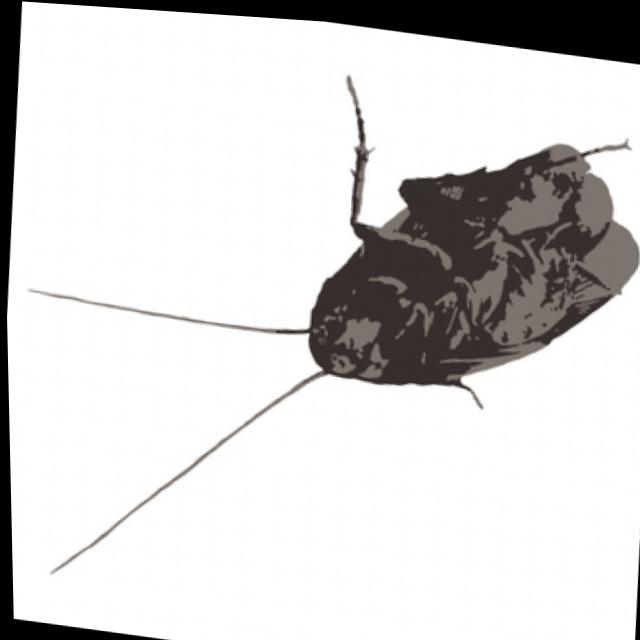Cockroach: (0, 22, 640, 640)
